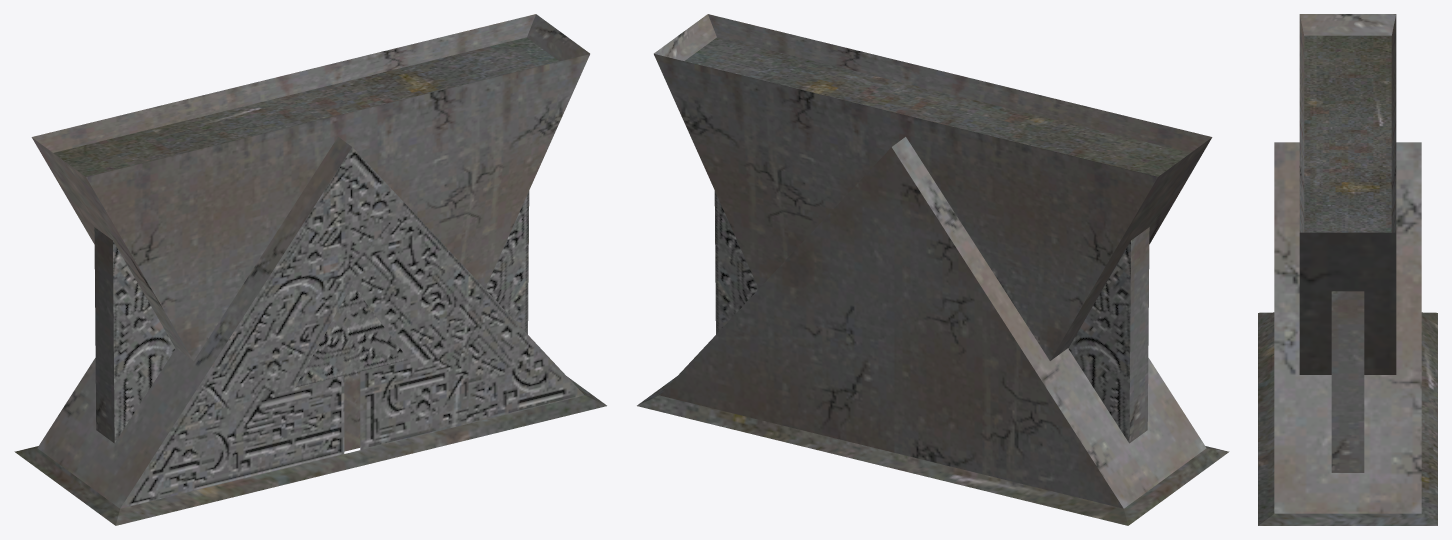
Rendered from atf_sith_altar_l1.fbx.
3 renders of one model, left to right at view 1: azimuth 30°, elevation 25°; view 2: azimuth 150°, elevation 25°; view 3: azimuth 270°, elevation 25°, orthographic. The views are drawn at different scales.
Visible parts, largest first — view 1: mesh_node; view 2: mesh_node; view 3: mesh_node.
Part boxes in pixels (x1,y1,x2,y2): mesh_node: (14,14,606,525); mesh_node: (637,14,1229,525); mesh_node: (1258,14,1437,525).
Size of the model in its own units: 2.05 by 1.3 by 0.7141.
1 material, 1 textured.
